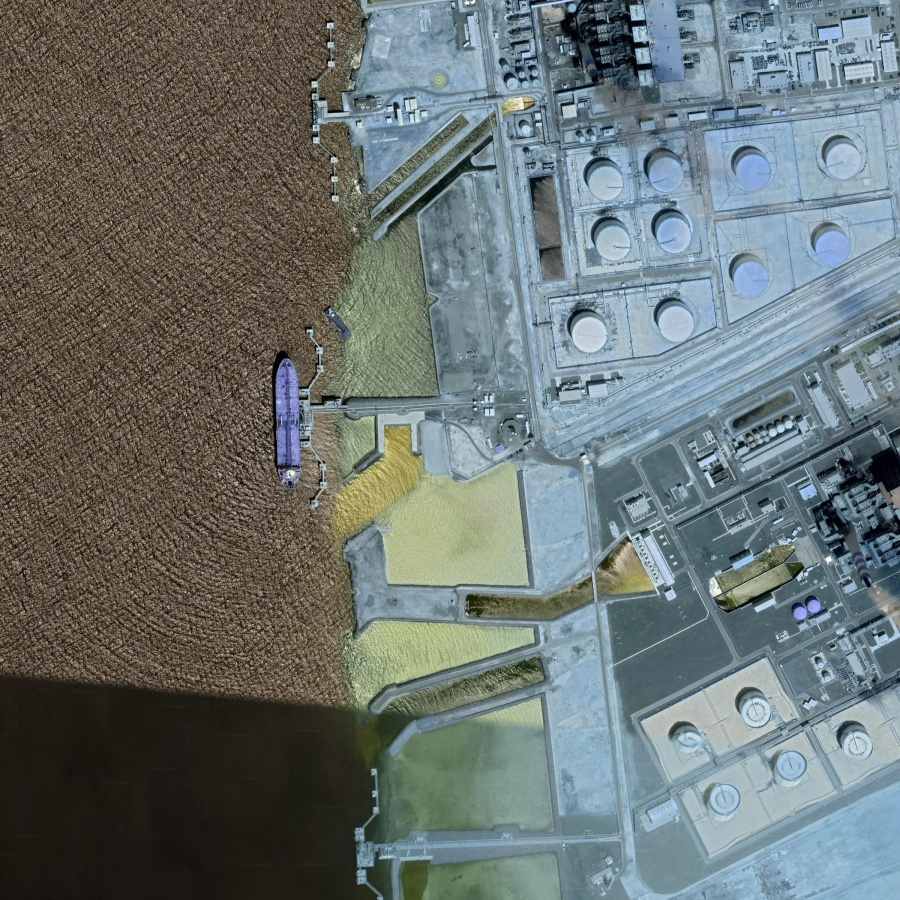PowerPlant: (517, 111, 897, 374)
